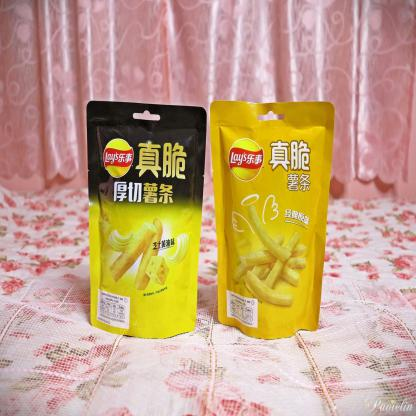potatochip: (204, 96, 339, 340), (84, 95, 210, 347)
